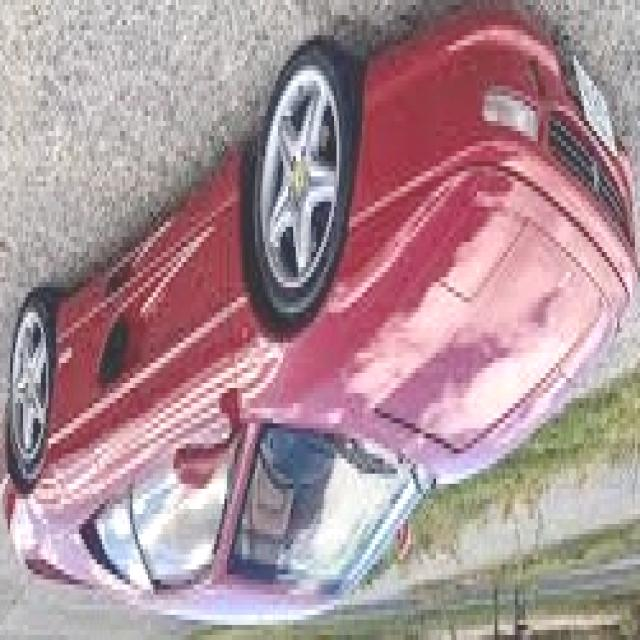maroon: (2, 101, 633, 620)
